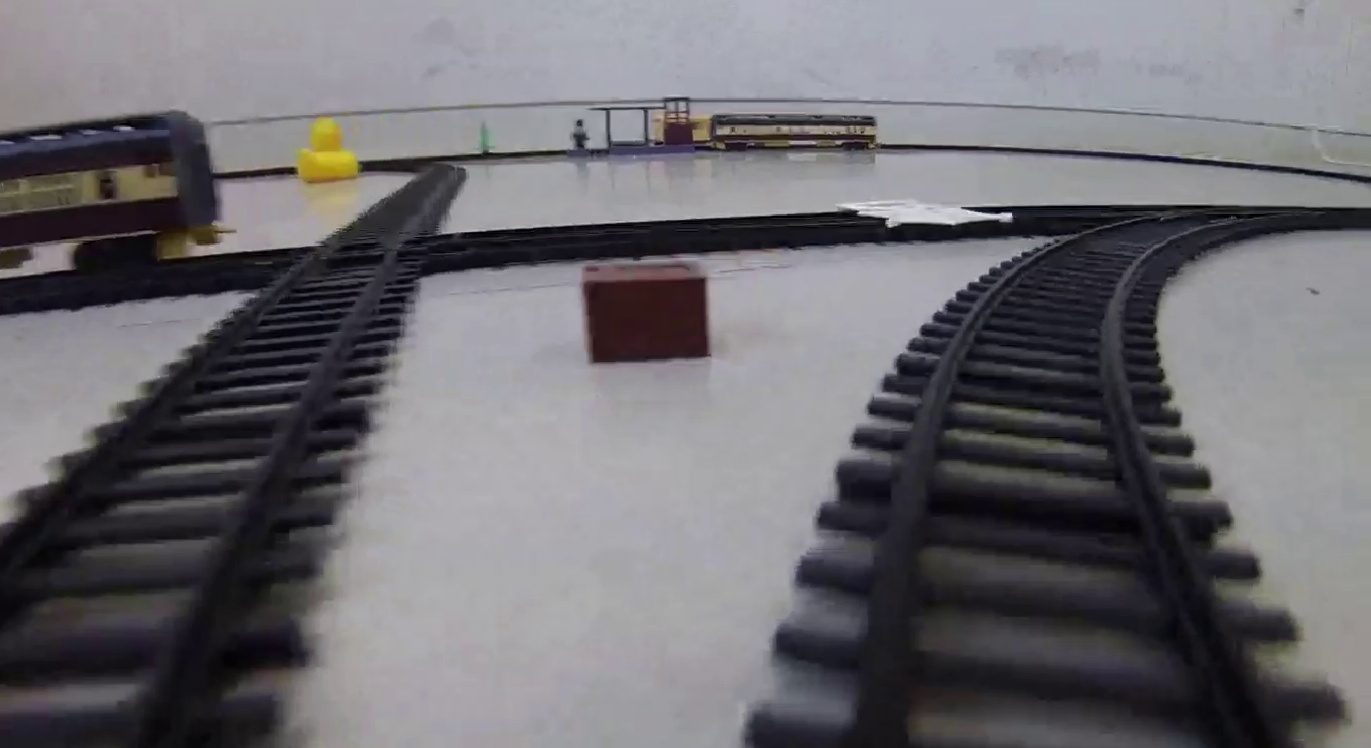box: (584, 265, 706, 357)
web: (837, 197, 1013, 227)
